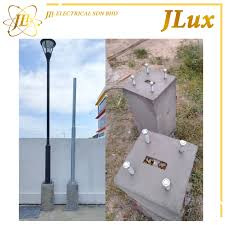light_pole: (40, 40, 56, 217), (68, 76, 84, 211)
